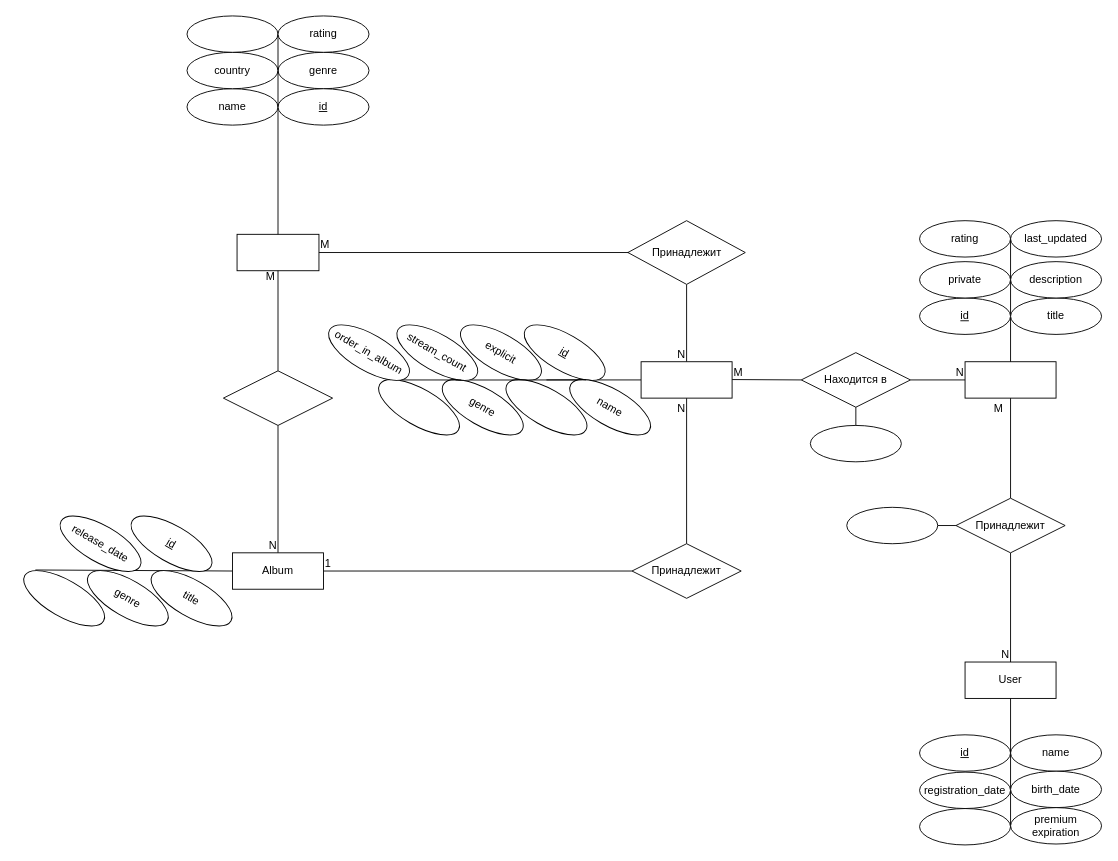
This 1118x861 diagram has some shape labels left out. Each missing label, with the centre of its shape:
"access_level" goes at pixel 892 525.
"album_id" goes at pixel 418 407.
"Artist" goes at pixel 277 252.
"debut_year" goes at pixel 232 33.
"duration" goes at pixel 546 407.
"label" goes at pixel 64 598.
"Playlist" goes at pixel 1010 379.
"premium" goes at pixel 965 826.
"Track" goes at pixel 686 379.
"track_order" goes at pixel 855 443.
"Принадлежит" goes at pixel 277 397.
